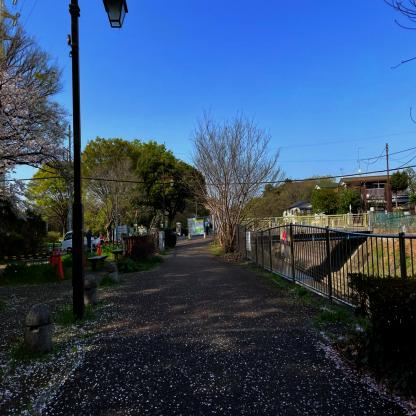Someiyoshino: (0, 47, 80, 233)
